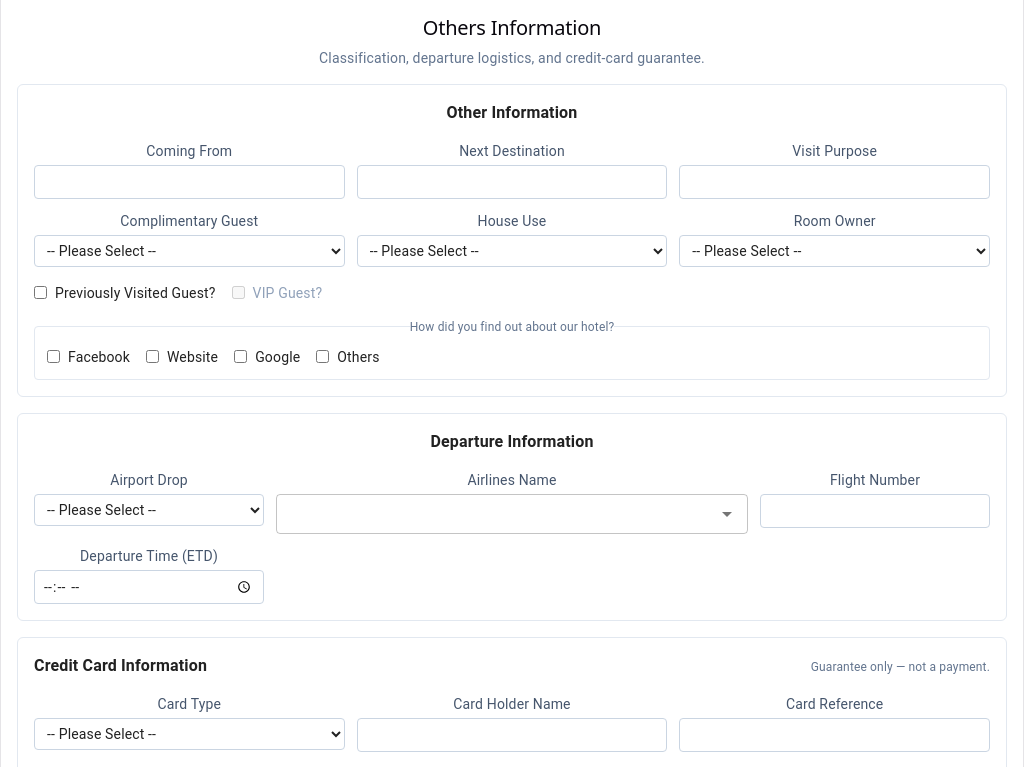
Scenario: OthersInformationTab — Section C (card) › Tokenize button is disabled until card-type + PAN + expiry are filled
Select "Visa Card" in the dropdown with test id "card-type" at (189, 734), box [34,718,345,750]
(page scrolled)
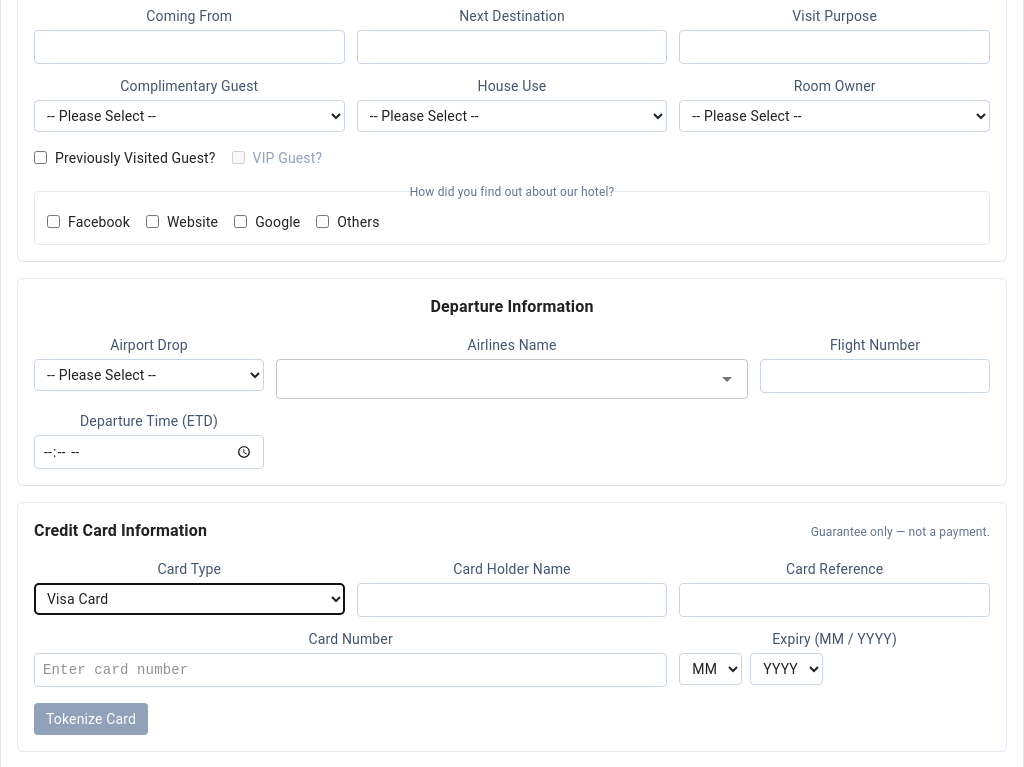
Type "4242424242424242" into the field with test id "card-number-input" at (351, 670), box [34,653,667,687]
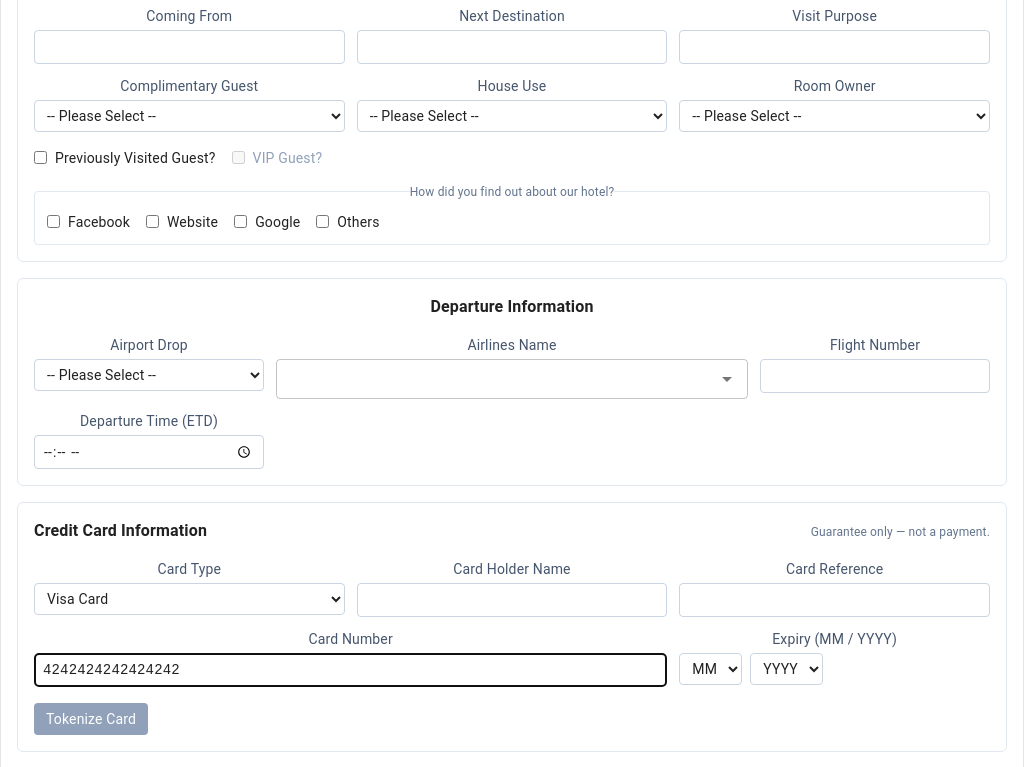
Select "12" in the dropdown with test id "expiry-month" at (711, 669), box [679,653,742,685]
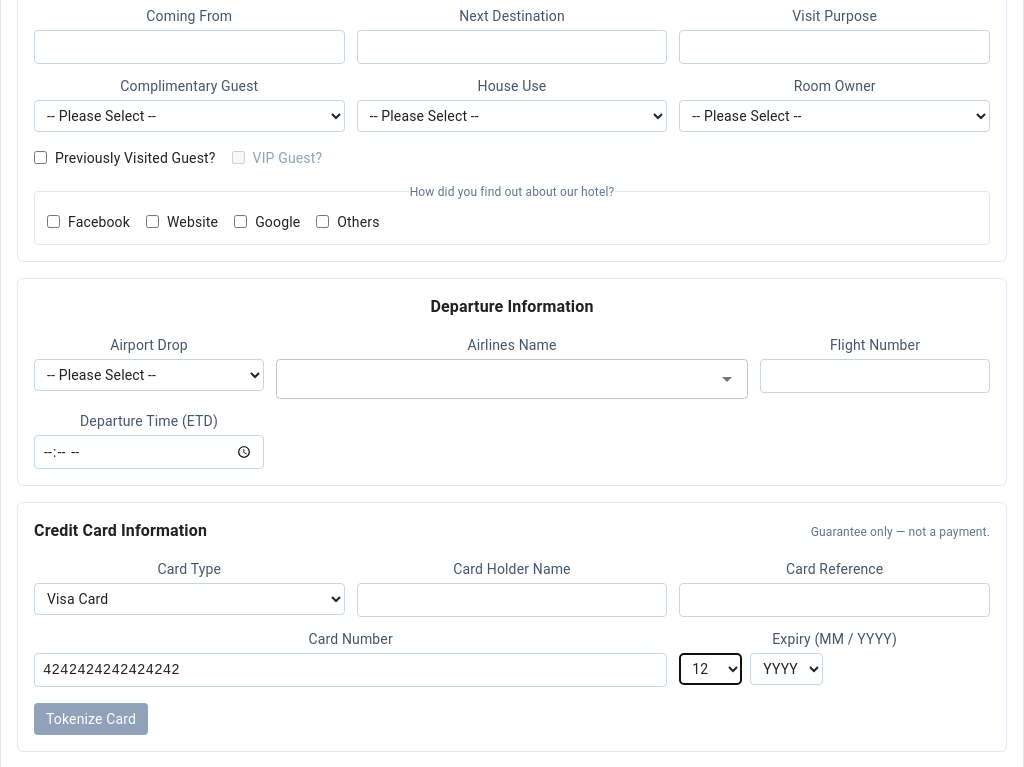
Select "2030" in the dropdown with test id "expiry-year" at (787, 669), box [750,653,823,685]
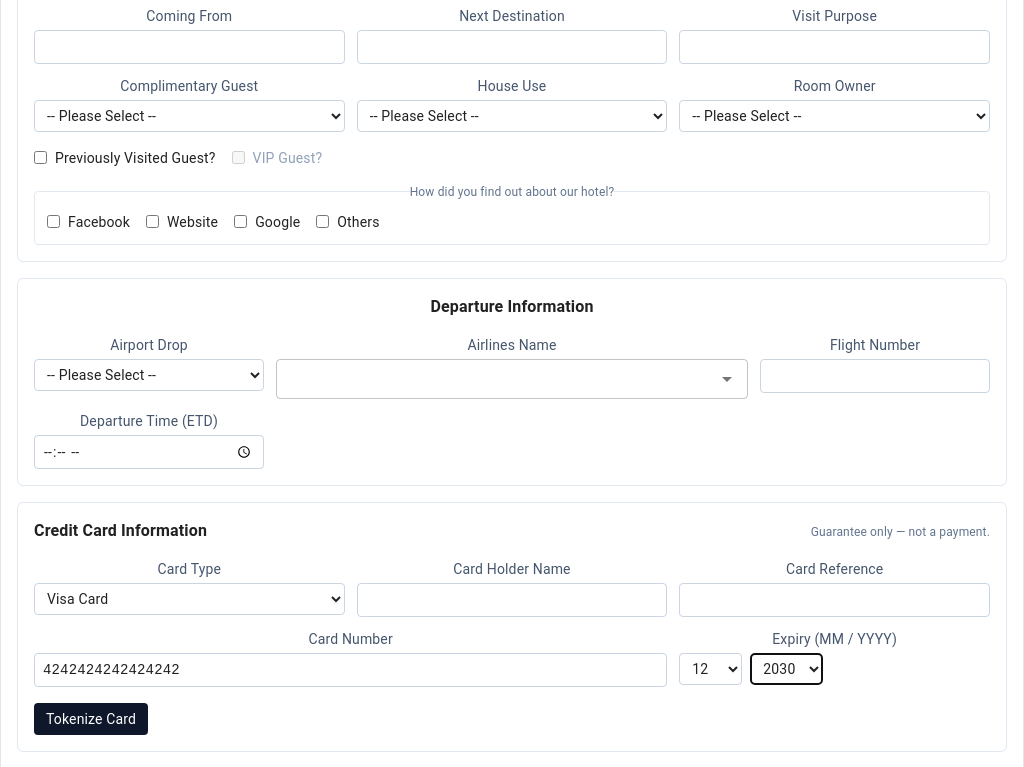
Expected: the button with test id "card-tokenize" is enabled, [34,703,148,735]
